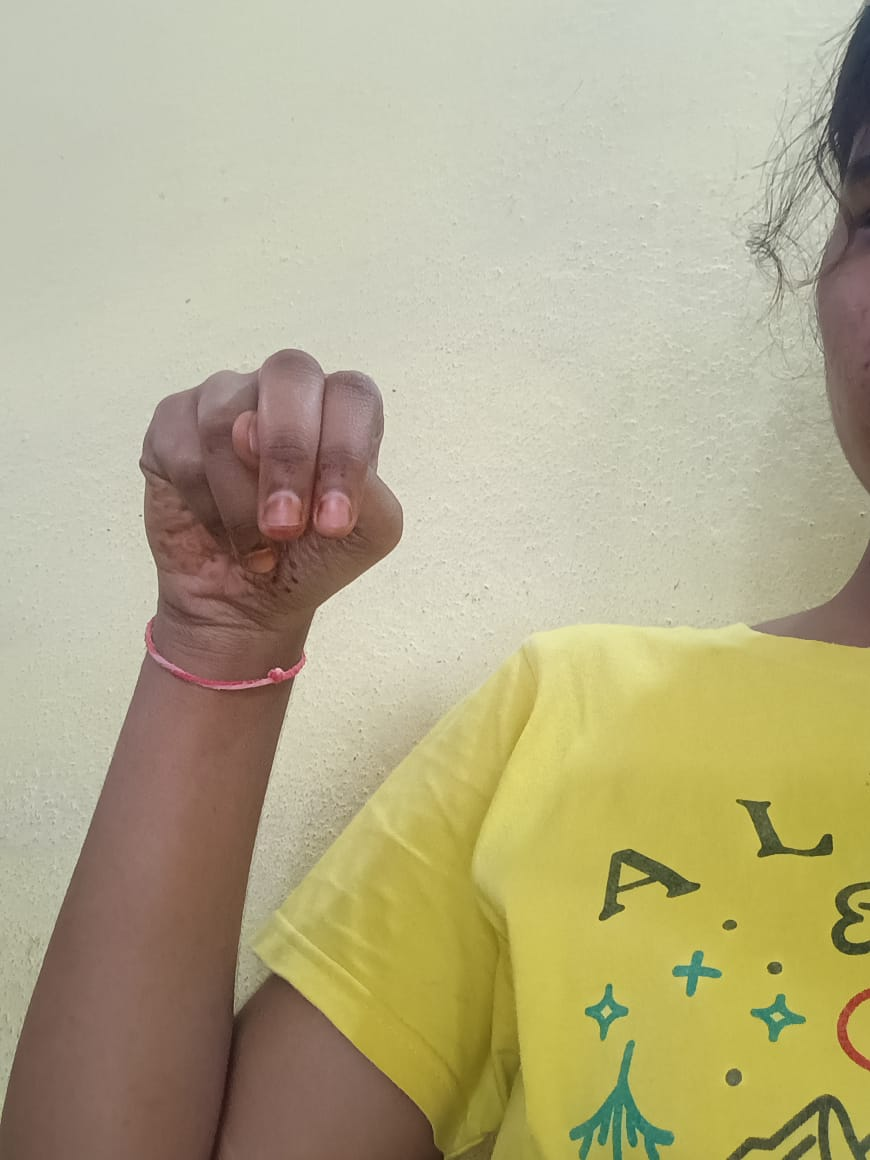N: (138, 350, 404, 616)
